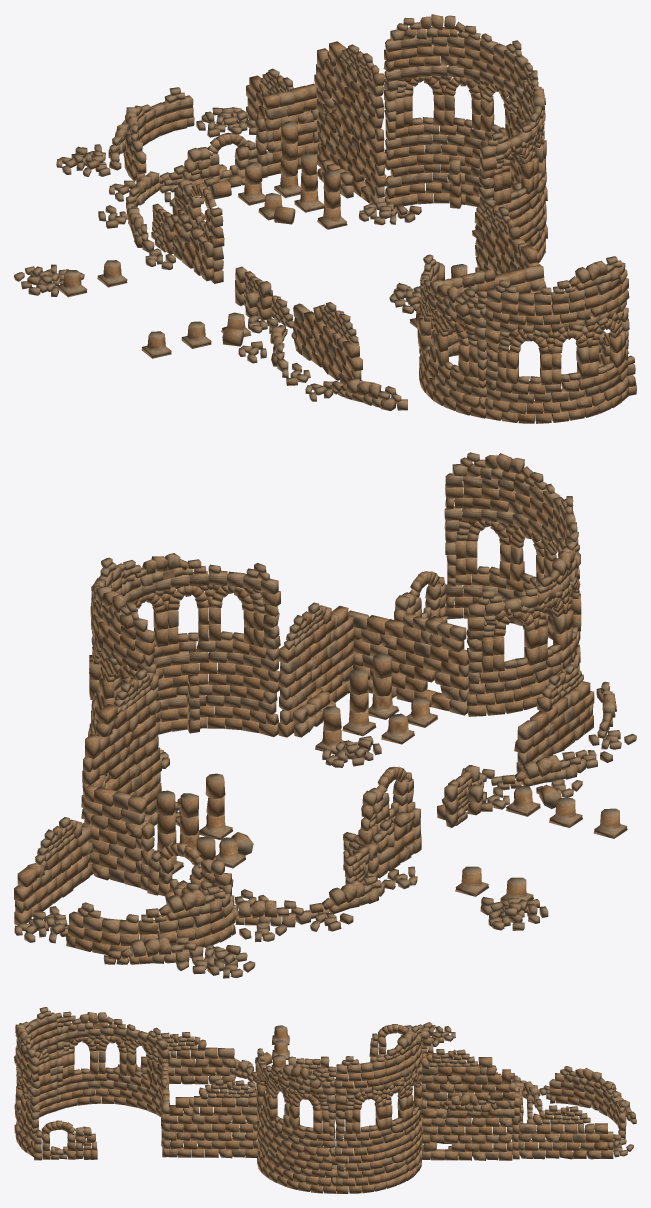
The model's file is ruins.compressed.glb.
The picture shows the model from 3 angles, top to bottom: view 1: azimuth 30°, elevation 25°; view 2: azimuth 150°, elevation 25°; view 3: azimuth 270°, elevation 25°; orthographic projection. The views are drawn at different scales.
Visible parts, largest first — view 1: ruins; view 2: ruins; view 3: ruins.
Boxes of the visible parts, box(x1,y1,x2,y2) form: ruins: box(14, 14, 636, 423); ruins: box(14, 452, 636, 978); ruins: box(14, 1007, 636, 1193).
Bounding box in the file's own units: 10.5 × 4.33 × 16.6.
Materials: 1 (1 with a texture image).
